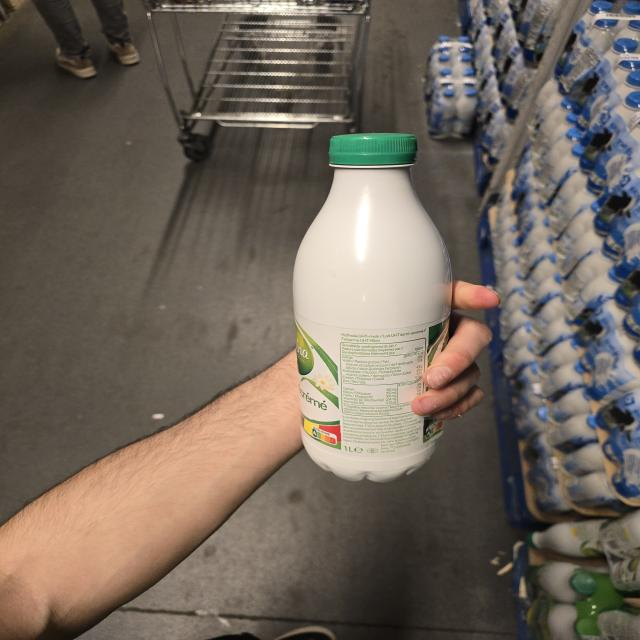Milk: (293, 133, 452, 482)
